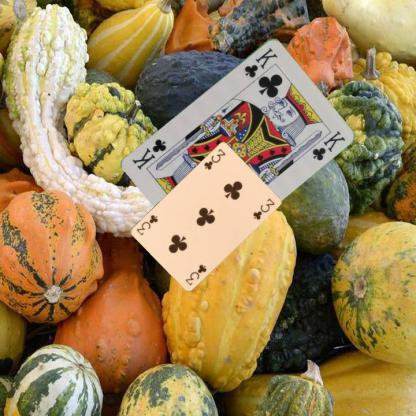3c: (201, 146, 227, 172), (183, 262, 208, 286)
Kc: (242, 44, 279, 78)
